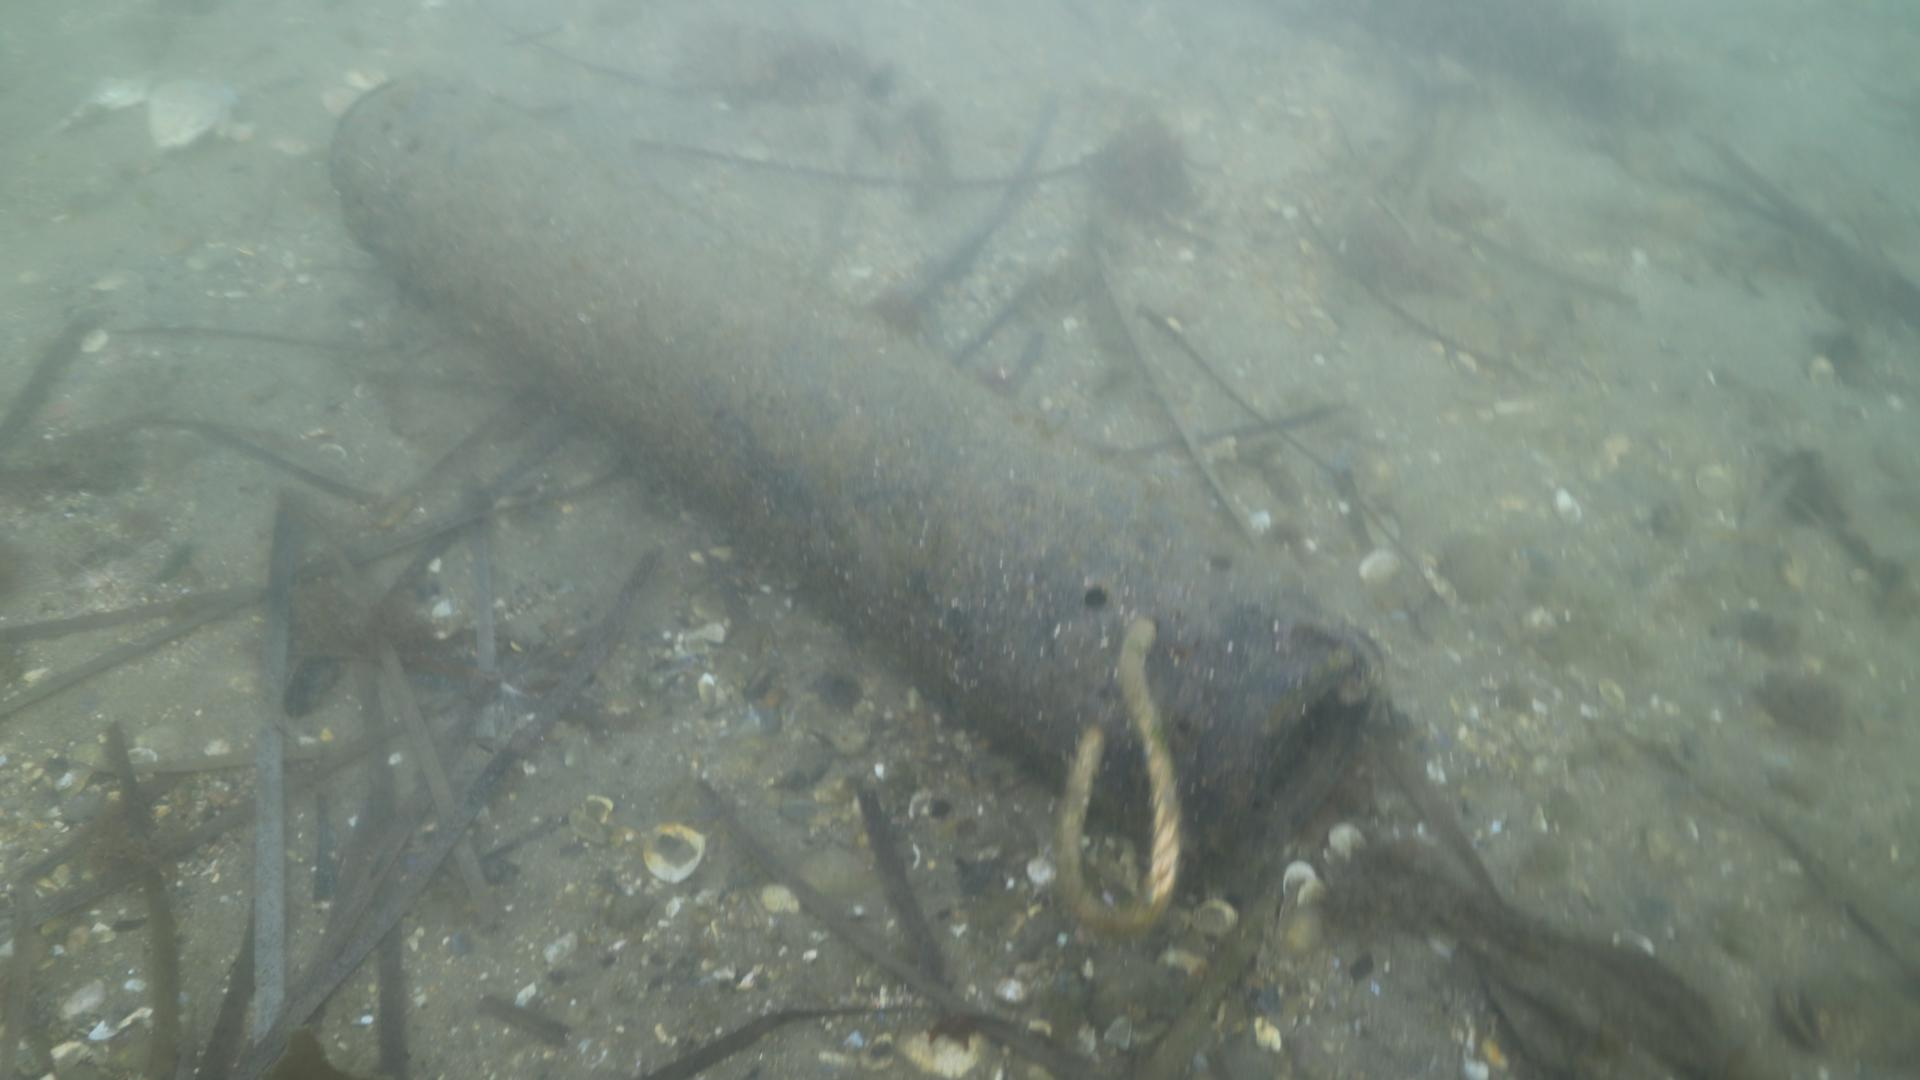eel fish trap: (327, 65, 1385, 890)
rope: (1058, 620, 1182, 928)
